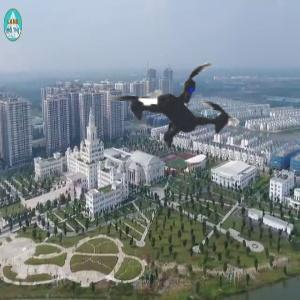drone: (74, 4, 277, 207)
